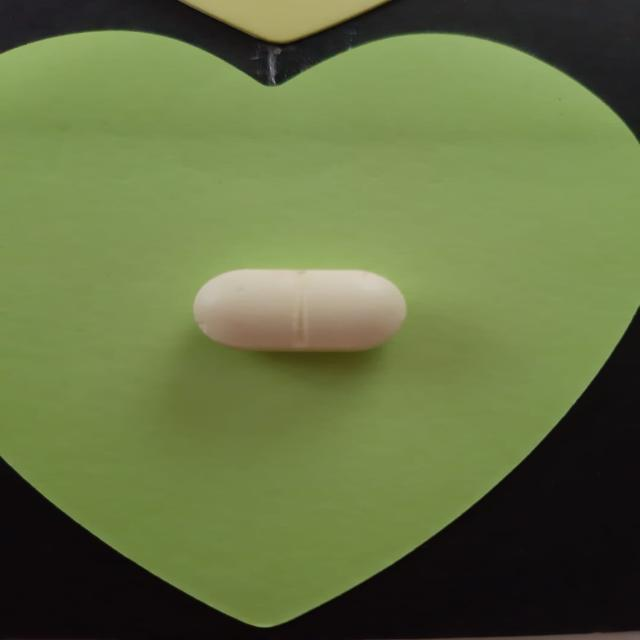pills: (181, 256, 419, 368)
